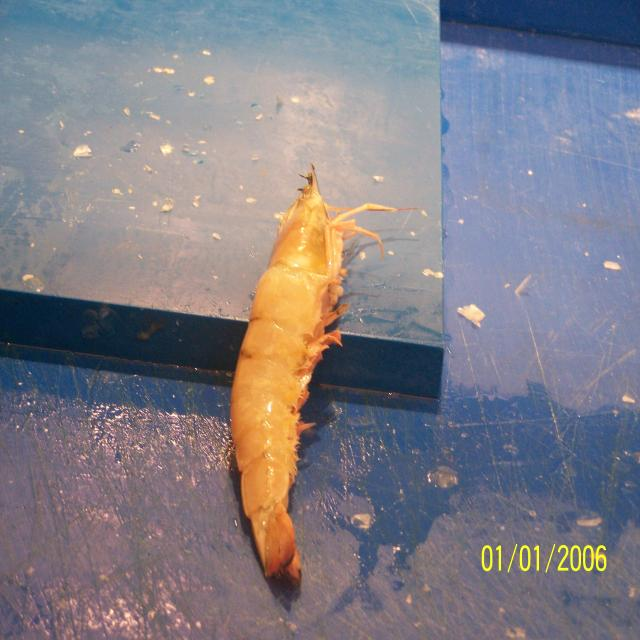Shrimp-karides-: (230, 168, 376, 595)
